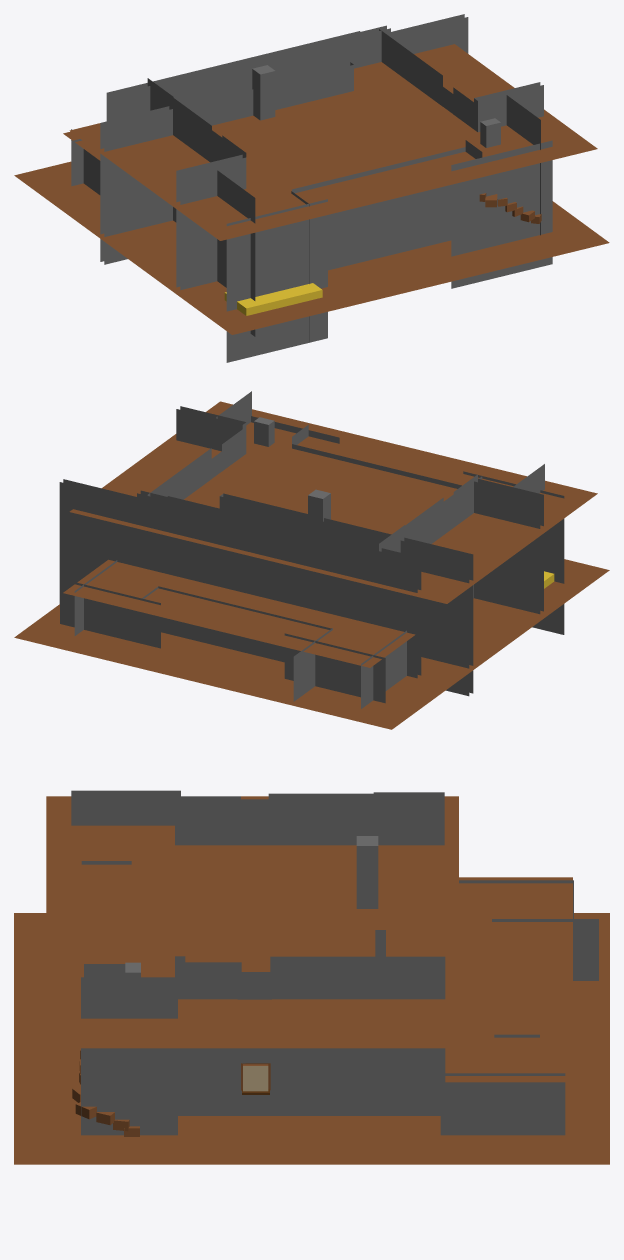
Rendered from castle_v2 1.fbx.
3 views of the same model, one above another, from view 1: azimuth 30°, elevation 25°; view 2: azimuth 150°, elevation 25°; view 3: azimuth 270°, elevation 25° (orthographic). The views are drawn at different scales.
Parts seen in each view (by area): view 1: ceil_0, floor, wall_24, wall_4, wall_8, wall_6, wall_23, wall_27, wall_15, wall_14, wall_3, wall_26 (+10 smaller); view 2: ceil_0, wall_23, floor, ceil_1, wall_24, wall_15, wall_27, wall_17, wall_21, wall_19, wall_26, wall_4 (+13 smaller); view 3: ceil_0, floor, ceil_1, wall_14, wall_9, wall_16, wall_13, wall_0, wall_2, wall_3, wall_1, wall_20 (+6 smaller).
Part boxes in pixels (x1,y1,x2,y2): ceil_0: (69, 44, 597, 240); floor: (14, 161, 609, 334); wall_24: (100, 62, 353, 264); wall_4: (226, 199, 327, 362); wall_8: (451, 140, 552, 288); wall_6: (292, 147, 465, 270); wall_23: (106, 31, 363, 121); wall_27: (176, 154, 246, 290); wall_15: (391, 14, 468, 53); wall_14: (379, 29, 442, 106); wall_3: (217, 170, 255, 336); wall_26: (474, 82, 543, 132); ceil_0: (69, 401, 597, 603); wall_23: (164, 496, 421, 678); floor: (14, 559, 609, 729); ceil_1: (63, 559, 415, 667); wall_24: (219, 493, 473, 696); wall_15: (59, 479, 144, 603); wall_27: (474, 478, 543, 614); wall_17: (60, 578, 160, 648); wall_21: (284, 633, 385, 703); wall_19: (158, 586, 331, 662); wall_26: (176, 406, 246, 454); wall_4: (463, 471, 564, 634); ceil_0: (46, 796, 458, 1048); floor: (14, 913, 609, 1164); ceil_1: (445, 877, 572, 1082); wall_14: (270, 956, 445, 1115); wall_9: (81, 977, 177, 1135); wall_16: (440, 1073, 565, 1135); wall_13: (185, 962, 241, 1115); wall_0: (268, 793, 379, 845); wall_2: (373, 792, 444, 845); wall_3: (71, 790, 180, 825); wall_1: (175, 796, 240, 845); wall_20: (492, 919, 598, 980).
Size of the model in its own units: 2706 by 1216 by 2613.
